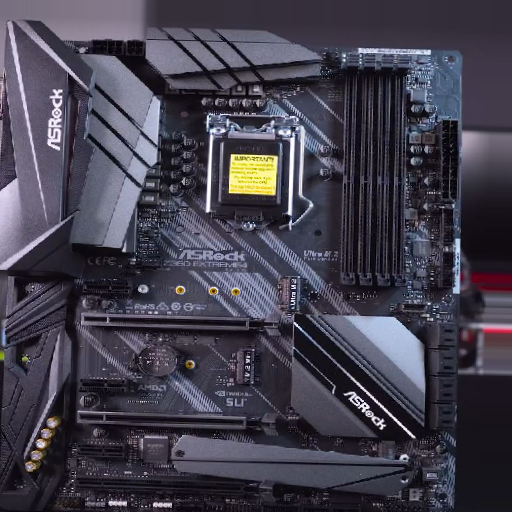CPU: (204, 124, 295, 230)
GPU: (72, 471, 275, 507), (76, 404, 278, 438), (79, 310, 284, 339)
MOTHERBOARD: (3, 28, 457, 508)
RAM: (341, 53, 412, 293)
SSD: (230, 347, 254, 384), (280, 273, 300, 314)
